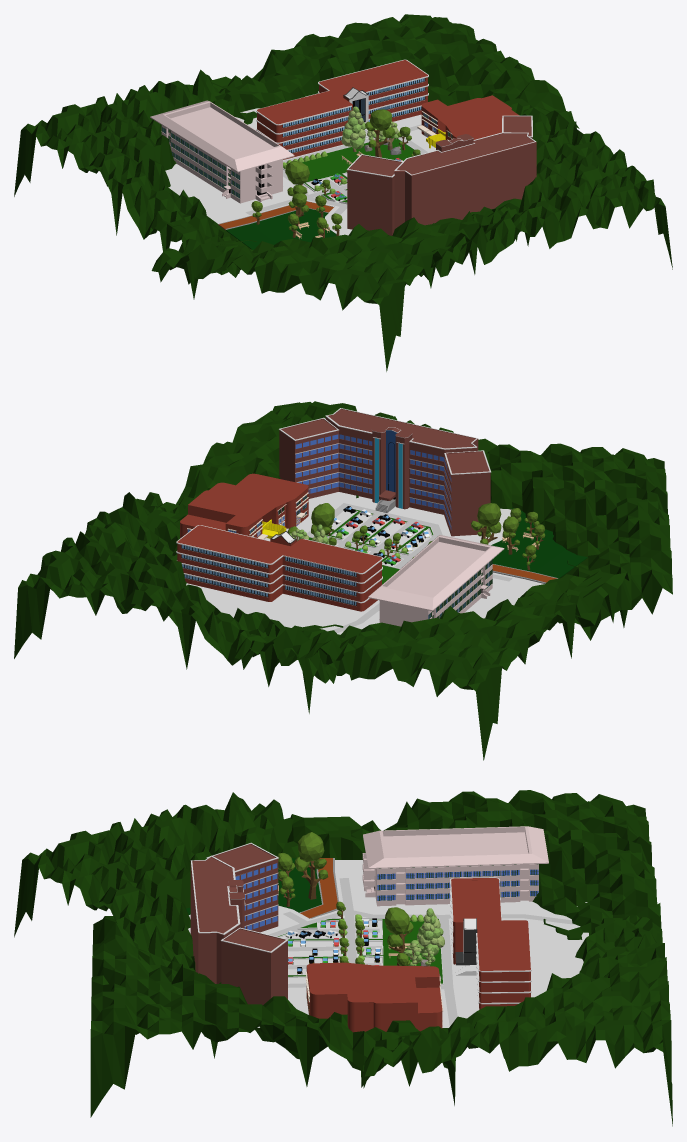
The model's file is map-210804.fbx.
3 views of the same model, one above another, from view 1: azimuth 30°, elevation 25°; view 2: azimuth 150°, elevation 25°; view 3: azimuth 270°, elevation 25° (orthographic). The views are drawn at different scales.
Parts seen in each view (by area): view 1: Plane.010, Plane.011, Plane.006, Plane.012, map_2.osm_buildings.001, Plane.007, map_2.osm_buildings.006, map_2.osm_buildings.005, Plane.001, map_2.osm_buildings.002, Plane.005, Plane.009 (+6 smaller); view 2: Plane.010, Plane.006, Plane.011, map_2.osm_buildings.001, Plane.001, Plane.012, map_2.osm_buildings.005, map_2.osm_buildings.006, map_2.osm_buildings.002, Plane.007, Plane.005, Plane.009 (+3 smaller); view 3: Plane.012, Plane.011, Plane.010, Plane.006, map_2.osm_buildings.001, Plane.001, map_2.osm_buildings.002, Plane.007, map_2.osm_buildings.006, Plane.009, map_2.osm_roads_service, map_2.osm_buildings.005 (+6 smaller).
Boxes of the visible parts, left/top/right/bottom form: Plane.010: left=14, top=69, right=256, bottom=299; Plane.011: left=211, top=14, right=579, bottom=130; Plane.006: left=151, top=198, right=529, bottom=371; Plane.012: left=405, top=98, right=672, bottom=288; map_2.osm_buildings.001: left=346, top=115, right=536, bottom=235; Plane.007: left=150, top=100, right=294, bottom=172; map_2.osm_buildings.006: left=259, top=60, right=426, bottom=159; map_2.osm_buildings.005: left=256, top=59, right=428, bottom=149; Plane.001: left=165, top=93, right=435, bottom=235; map_2.osm_buildings.002: left=417, top=95, right=519, bottom=148; Plane.005: left=218, top=201, right=336, bottom=249; Plane.009: left=161, top=125, right=283, bottom=194; Plane.010: left=234, top=571, right=629, bottom=760; Plane.006: left=356, top=443, right=672, bottom=640; Plane.011: left=14, top=492, right=349, bottom=713; map_2.osm_buildings.001: left=278, top=408, right=491, bottom=536; Plane.001: left=186, top=492, right=544, bottom=634; Plane.012: left=145, top=401, right=496, bottom=532; map_2.osm_buildings.005: left=176, top=525, right=382, bottom=601; map_2.osm_buildings.006: left=179, top=525, right=378, bottom=611; map_2.osm_buildings.002: left=180, top=473, right=308, bottom=539; Plane.007: left=368, top=535, right=504, bottom=611; Plane.005: left=491, top=507, right=599, bottom=583; Plane.009: left=379, top=559, right=492, bottom=626; Plane.012: left=90, top=916, right=455, bottom=1117; Plane.011: left=361, top=903, right=672, bottom=1126; Plane.010: left=287, top=790, right=661, bottom=945; Plane.006: left=14, top=792, right=299, bottom=1058; map_2.osm_buildings.001: left=190, top=842, right=288, bottom=1004; Plane.001: left=188, top=860, right=588, bottom=1027; map_2.osm_buildings.002: left=305, top=962, right=443, bottom=1032; Plane.007: left=363, top=826, right=548, bottom=868; map_2.osm_buildings.006: left=450, top=880, right=531, bottom=1009; Plane.009: left=362, top=853, right=538, bottom=895; map_2.osm_roads_service: left=269, top=878, right=575, bottom=1026; map_2.osm_buildings.005: left=450, top=877, right=531, bottom=1002.
Bounding box in the file's own units: 26496 × 6716 × 28014.
